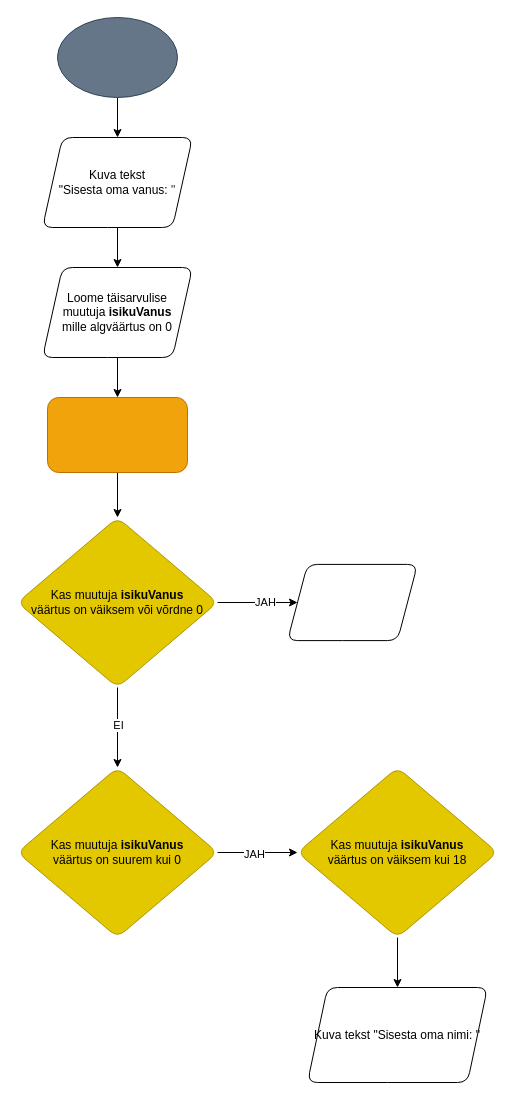
This 515x1100 diagram has some shape labels left out. The shapes that lost their labels are listed below. From the top down, each one's centre as x and y in pixels, then its label:
pixel 117 57: ALGUS
pixel 117 434: Oota kuni kasutaja sisestab väärtuse mis omistatakse muutujale isikuVanus
pixel 352 602: Kuva tekst "Ajarändureid me ei teeninda"
